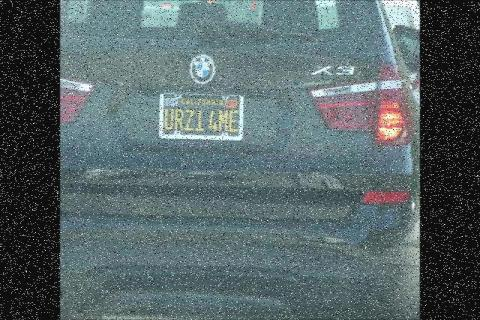LicensePlate: (159, 90, 247, 142)
